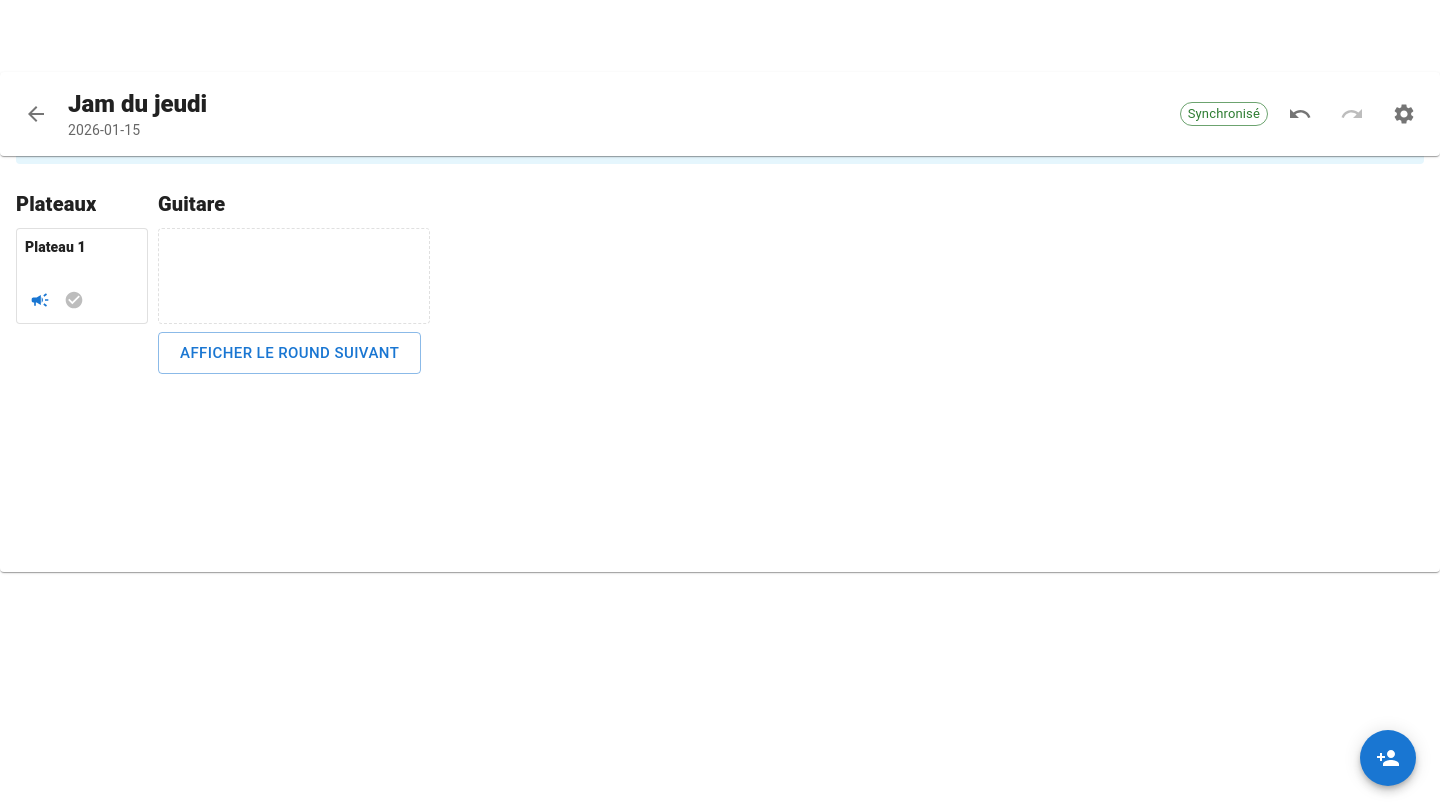
Test: jam pages › opens jam configuration from the jam detail header
Expected: the heading "Jam du jeudi" is shown, [68, 90, 207, 118]
Step 1. Click the button named "Configuration" → (1404, 114), box [1384, 94, 1424, 134]
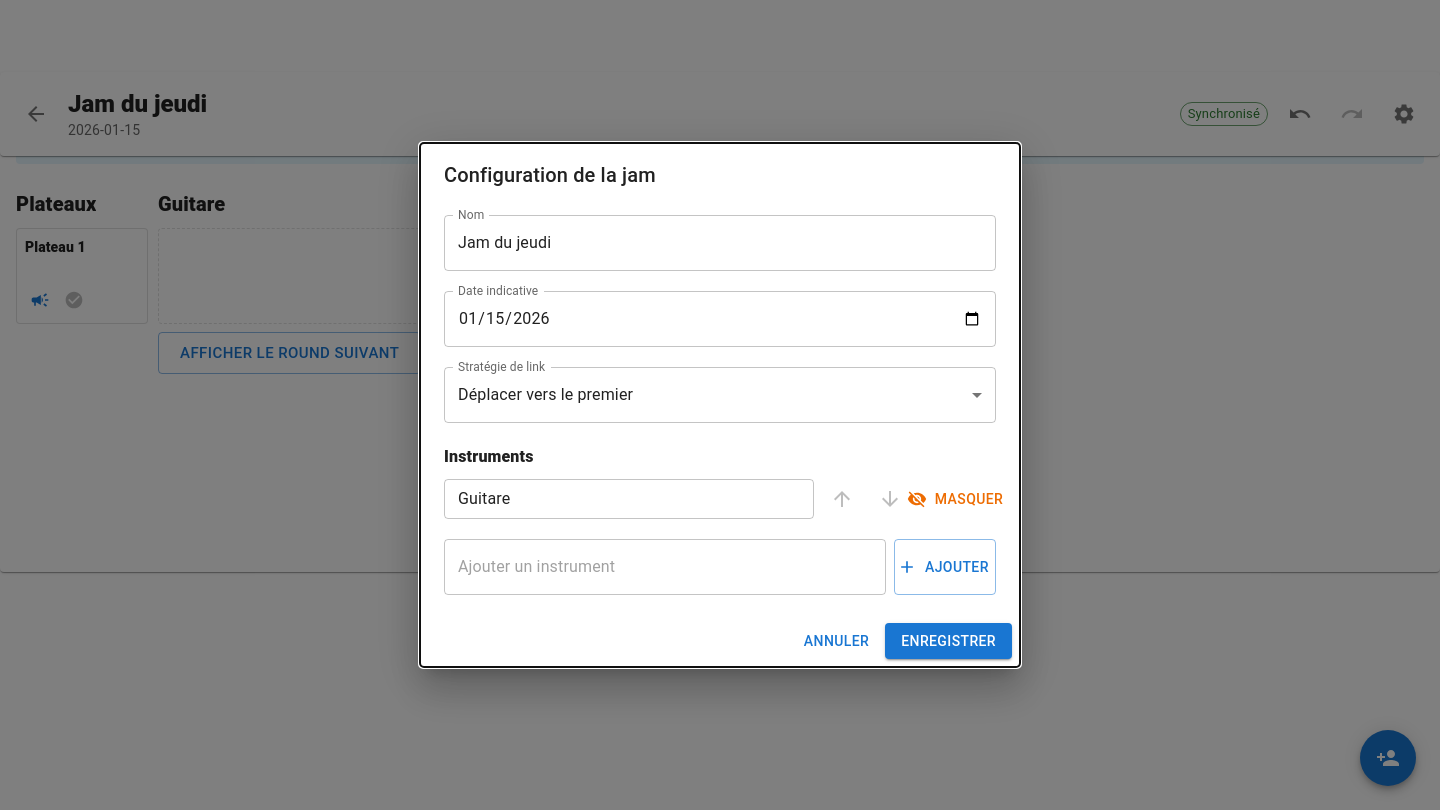
Expected: the heading "Configuration de la jam" is shown, [444, 163, 656, 187]
Expected: the field showing "Jam du jeudi" is shown, [444, 215, 996, 271]
Expected: the field showing "Guitare" is shown, [444, 479, 814, 519]
